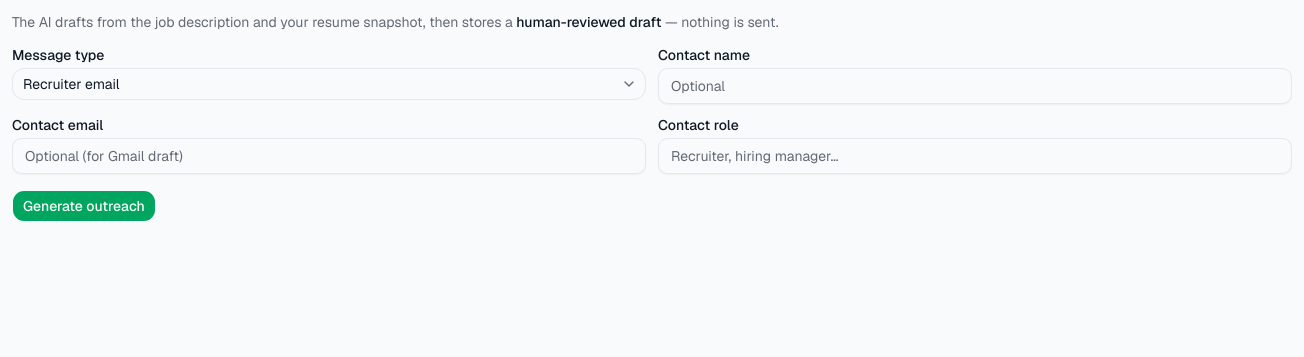
it: shows the reason, keeps the form, and retries when drafting fails
Type "Dana" into the field labelled "Contact name" at (975,86), box [658,68,1292,104]
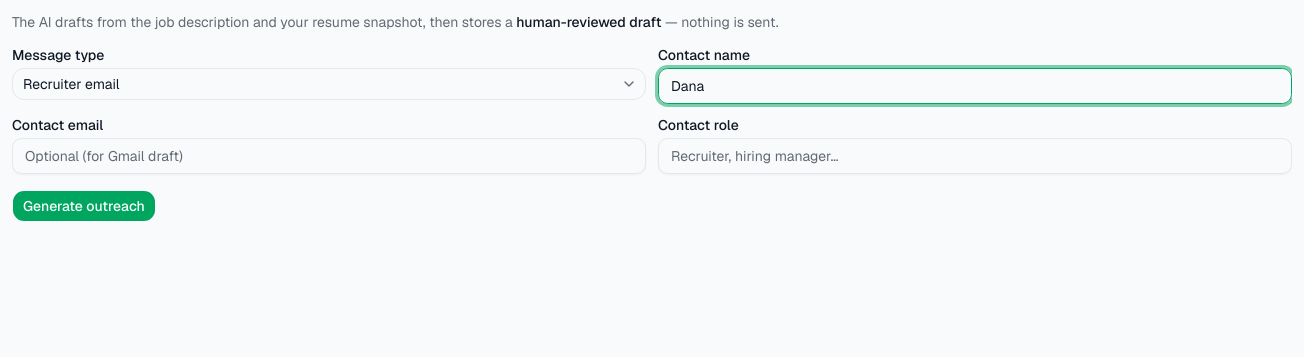
Click the button "Generate outreach" at (84,206), box [12,190,156,222]
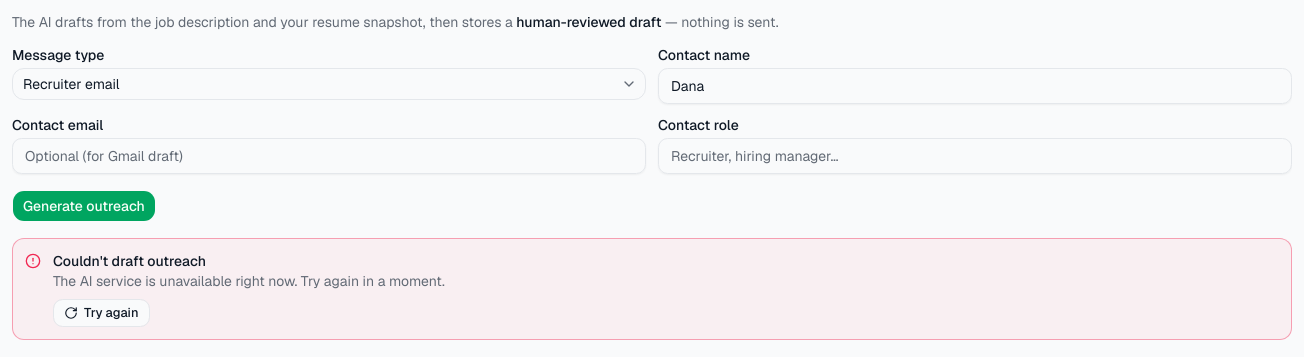
Check: the message shows "Couldn't draft outreach", box [53,252,206,270]
Check: the message shows "The AI service is unavailable right now.", box [53,272,445,290]
Click the button "Try again" at (101,313), box [53,299,150,327]
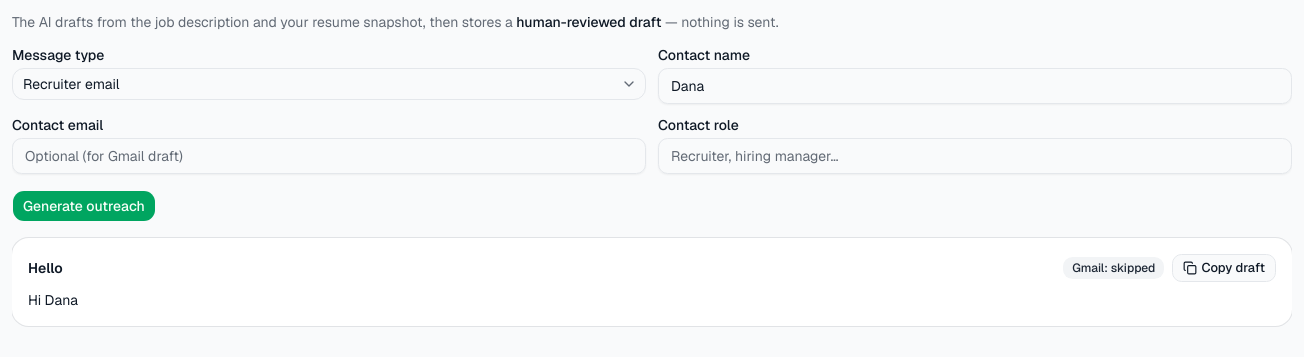
Check: the text "Hi Dana" is shown, box [28,291,78,309]
Check: the message "Couldn't draft outreach The AI service is unavailable right now. Try again in a" is gone
